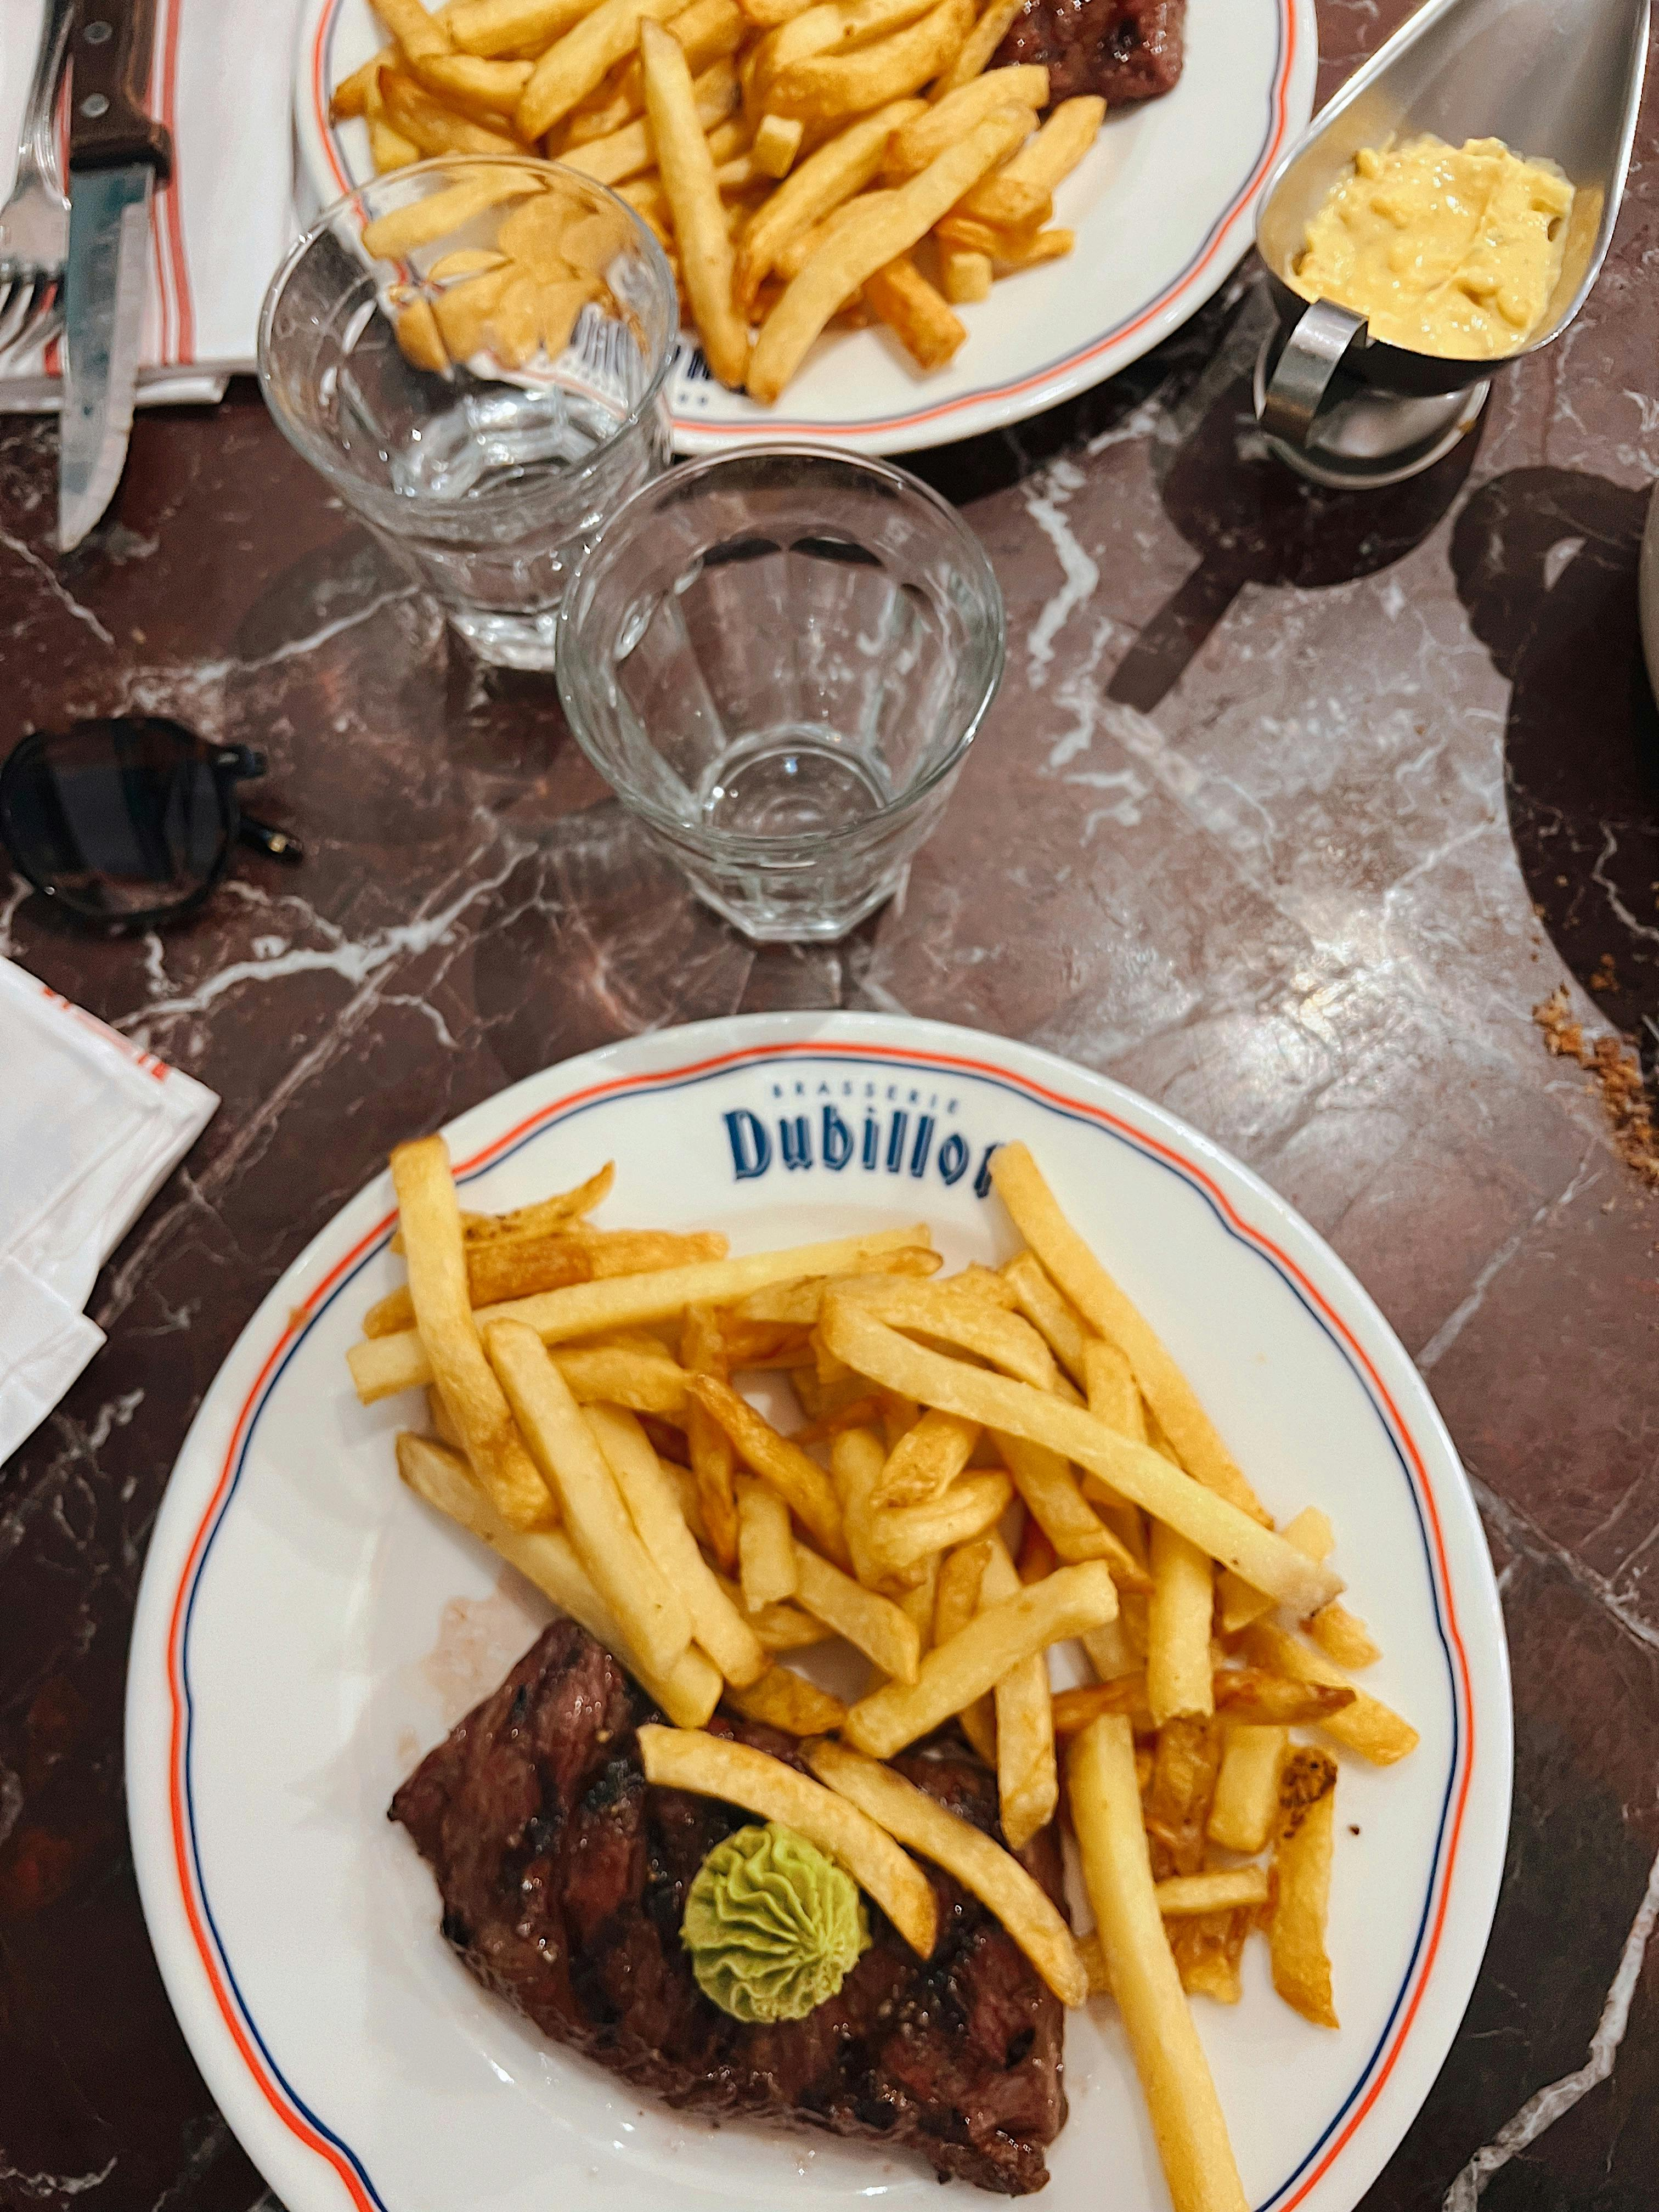chips: (362, 1148, 1340, 2135), (333, 0, 1124, 373)
